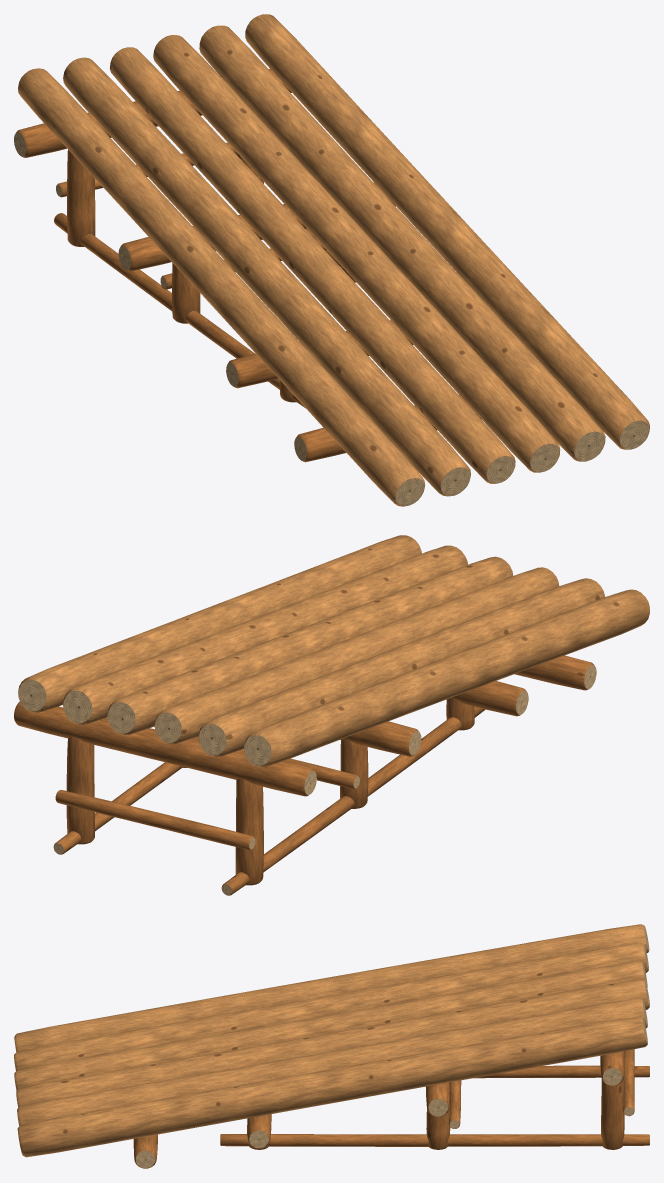
File: SM_LogRamp_NoWalls.fbx
The picture shows the model from 3 angles, top to bottom: view 1: azimuth 30°, elevation 25°; view 2: azimuth 150°, elevation 25°; view 3: azimuth 270°, elevation 25°; orthographic projection. The views are drawn at different scales.
Parts seen in each view (by area): view 1: SM_LogRamp_NoWalls; view 2: SM_LogRamp_NoWalls; view 3: SM_LogRamp_NoWalls.
Boxes of the visible parts, left/top/right/bottom form: SM_LogRamp_NoWalls: left=14, top=14, right=649, bottom=506; SM_LogRamp_NoWalls: left=14, top=535, right=649, bottom=895; SM_LogRamp_NoWalls: left=14, top=924, right=649, bottom=1168.
Size of the model in its own units: 1.8 by 0.9945 by 4.08.
